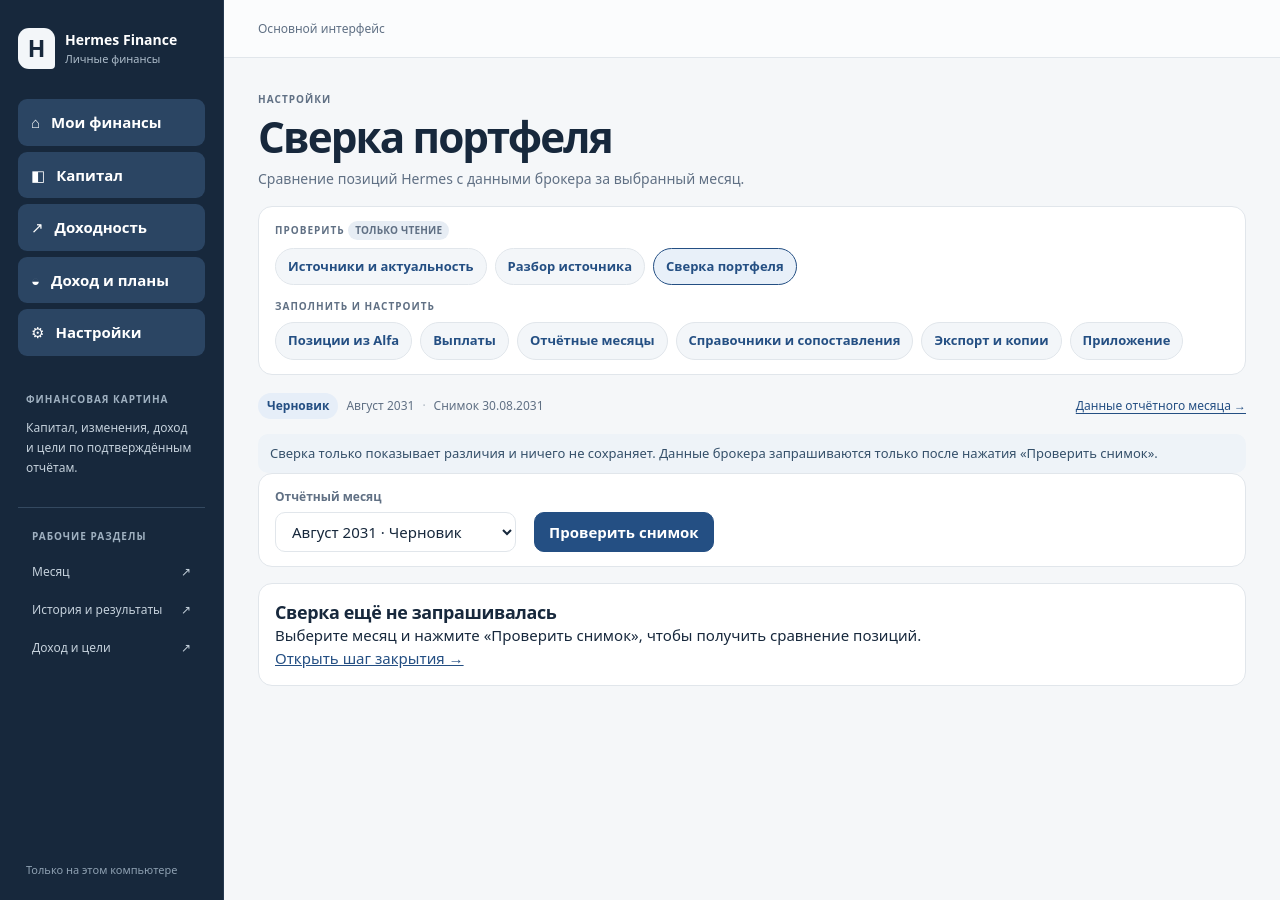
Test case: UI v2 Data reconciliation › keeps the v2 Close return and opens the exact mappings tab for a selected month
Check: the element with test id "reconciliation-idle" is shown, box [258,583,1246,686]
Click the button "Проверить снимок" at (624, 532), box [534,512,714,552]
(page scrolled)
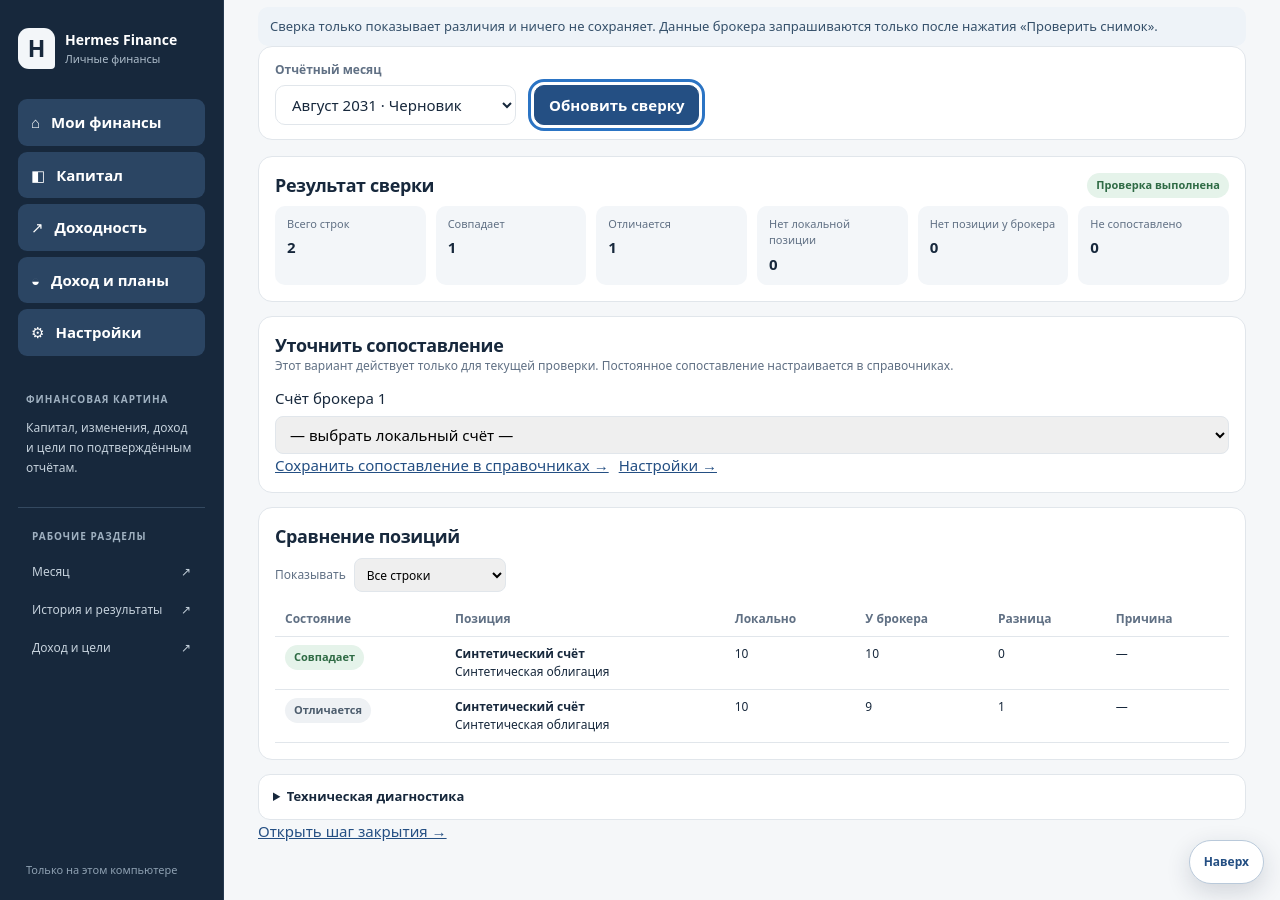
Check: the element with test id "reconciliation-mapping" is shown, box [258,316,1246,493]
